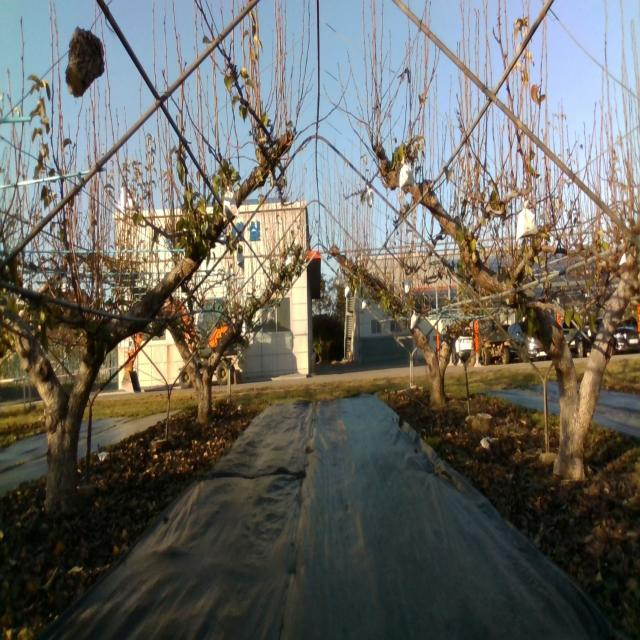pearbags: (515, 200, 538, 240), (222, 185, 240, 224), (400, 158, 416, 191), (197, 309, 207, 331)
